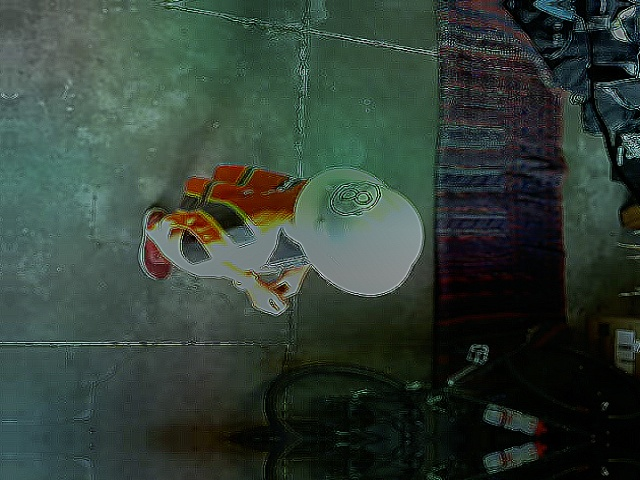eight: (329, 180, 380, 215)
